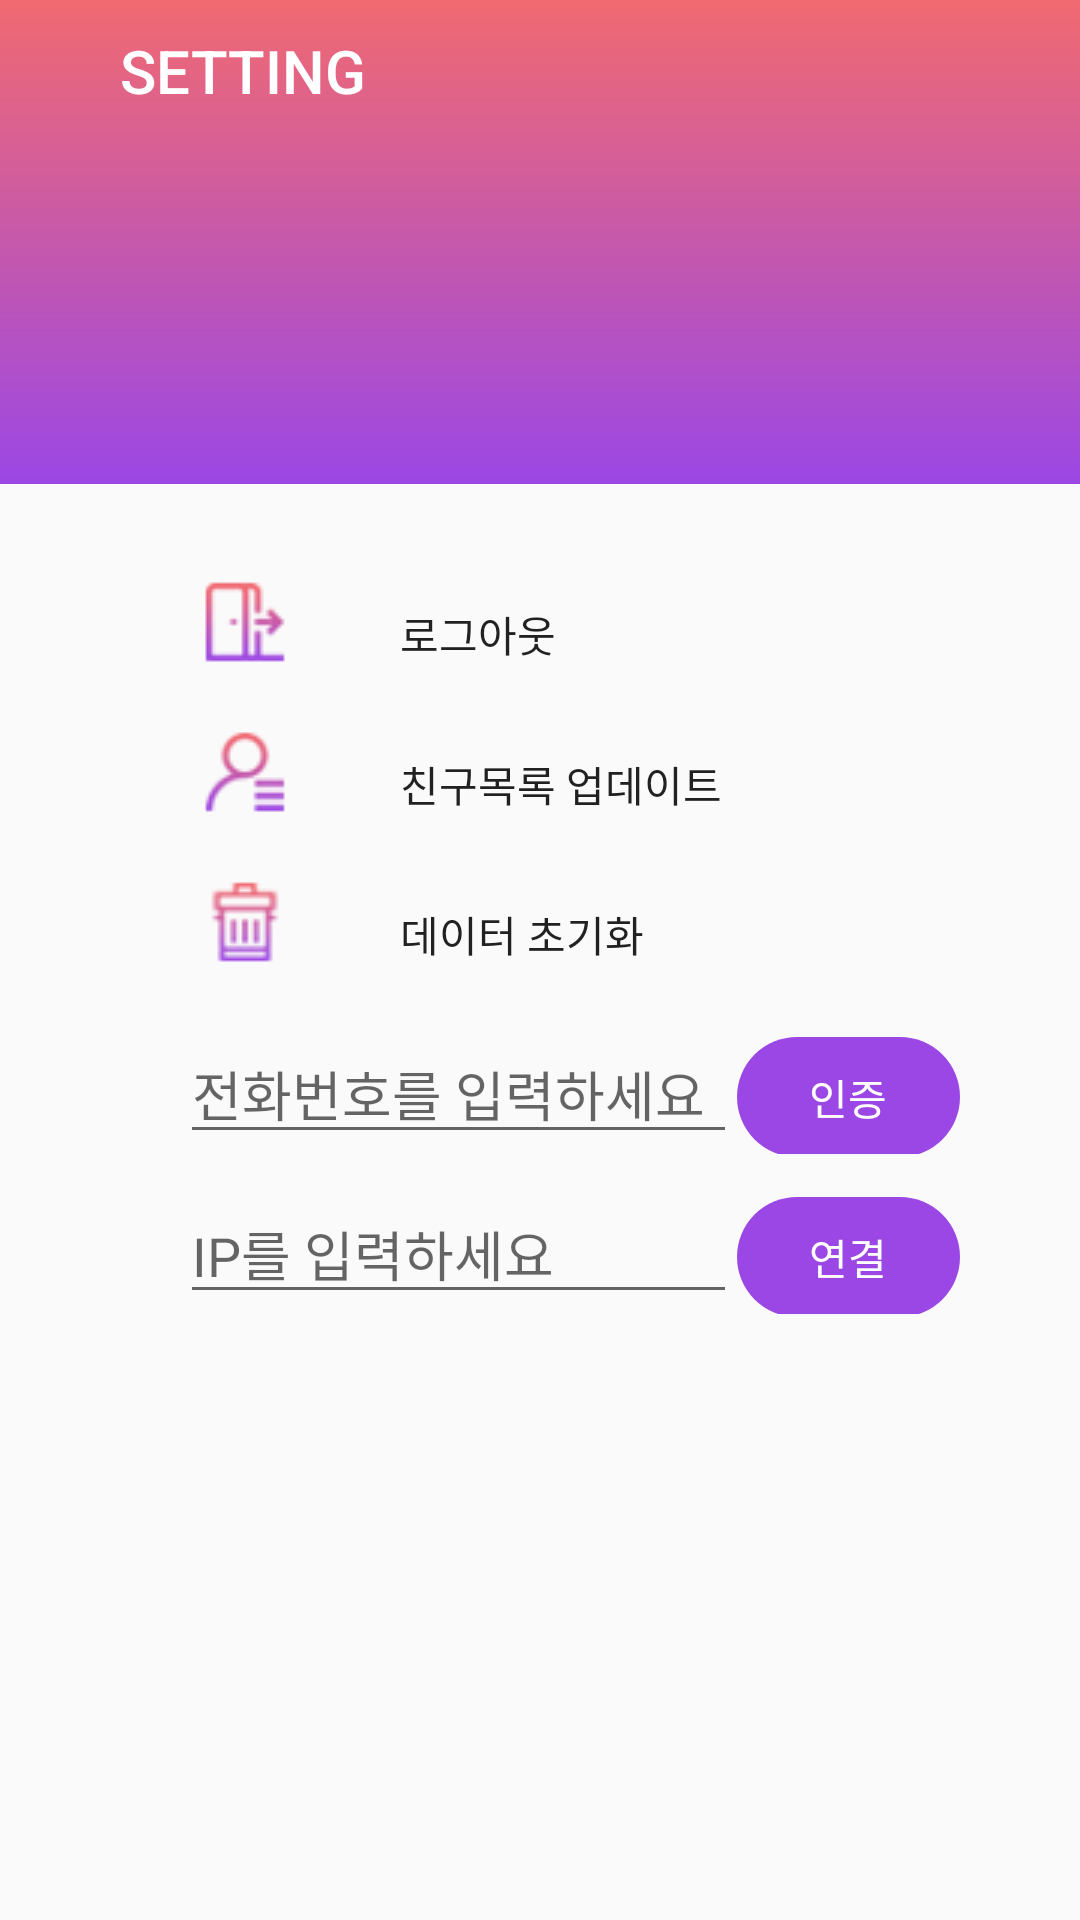

Screen size 1080×1920. Icon name, then its center in pixels as (x=x, y=y):
setting reset: (x=245, y=922)
setting update: (x=245, y=772)
